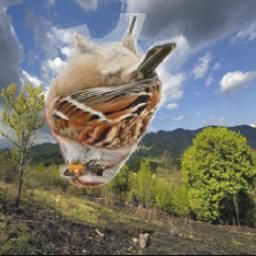Sparrow: (43, 13, 176, 188)
